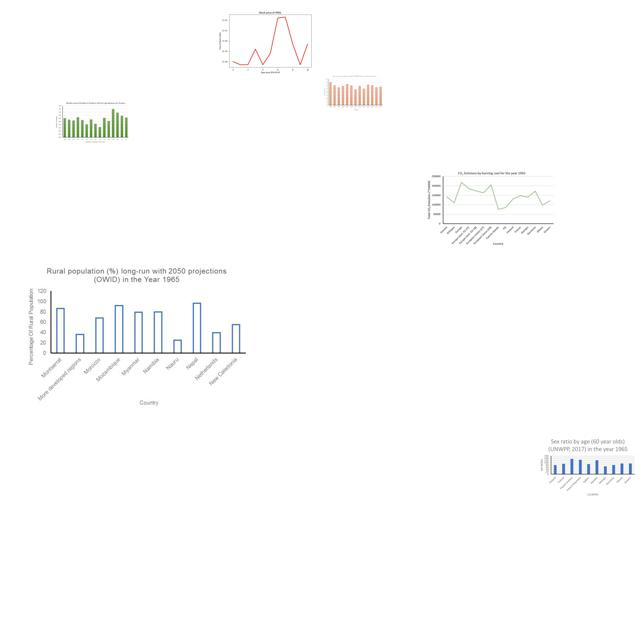Graph: (24, 265, 249, 409), (427, 170, 555, 246), (216, 4, 322, 77), (538, 436, 637, 499), (54, 100, 130, 145), (323, 75, 384, 111)
